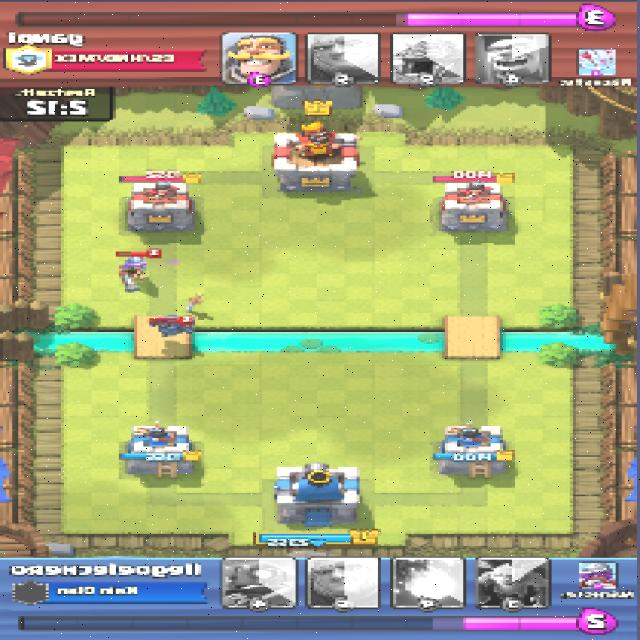Enemy-MiniPEKKA: (148, 316, 192, 337)
Enemy-Musketeer: (115, 256, 154, 293)
